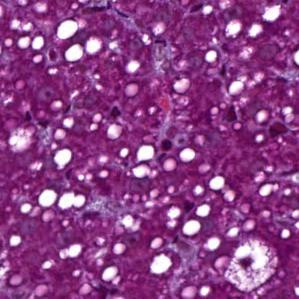ballooning: (222, 233, 281, 296)
